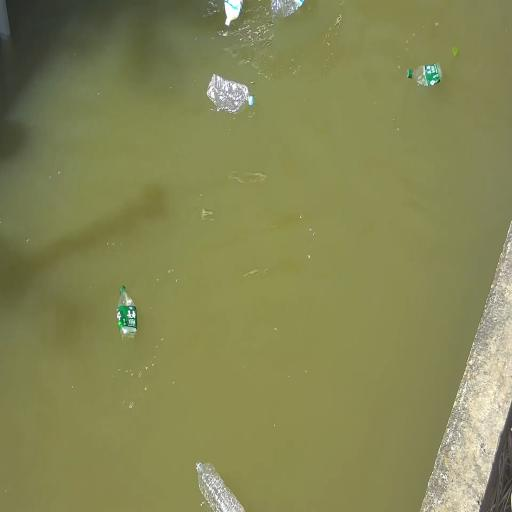plastic: (196, 463, 244, 511), (207, 74, 253, 113), (117, 285, 138, 346), (407, 64, 442, 86)
